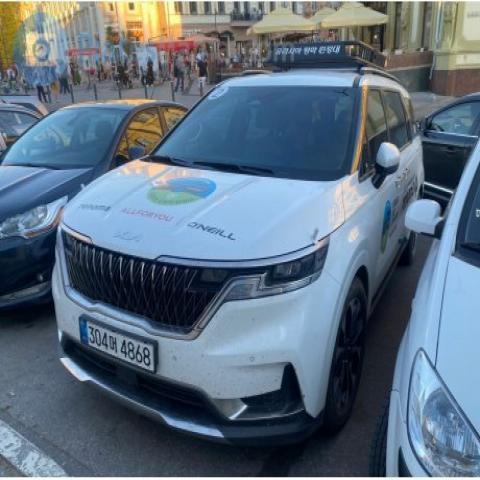LP: (74, 313, 163, 378)
